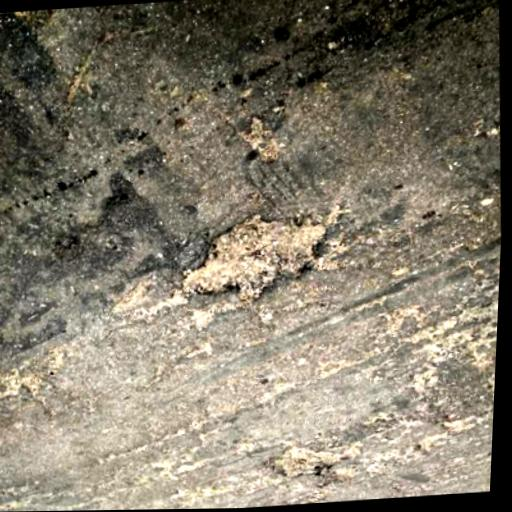pothole: (171, 207, 334, 308), (263, 442, 345, 481)
